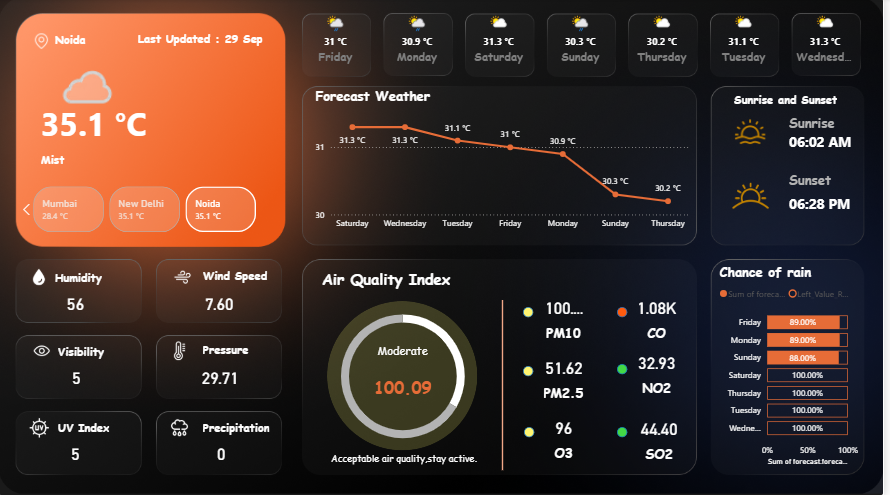

The dashboard page shown, as its layout file describes it:
{"tool":"powerbi","page":{"name":"Page 1","canvas":[1280,720],"ordinal":0},"visuals":[{"type":"shape","box":[475.7,437.6,217.5,216.1],"z":0},{"type":"advancedSlicerVisual","fields":{"Values":["Locations.location.name"]},"box":[26,268,372.1,76.6],"z":1000},{"type":"shape","box":[62.8,142.4,186.8,75],"z":2000},{"type":"shape","box":[62.8,211.3,323.1,45.9],"z":3000},{"type":"shape","box":[82.7,38.3,148.6,45.9],"z":4000},{"type":"shape","box":[202.7,38.6,185.8,39.8],"z":5000},{"type":"image","box":[44.4,45.9,36.8,32.2],"z":6000},{"type":"cardVisual","fields":{"Data":["Min(Current.current.condition.icon)"]},"box":[62.8,62.8,150.1,99.5],"z":7000},{"type":"image","box":[38.3,385.9,42.9,35.2],"z":8000},{"type":"image","box":[240.4,491.6,44.4,36.8],"z":9000},{"type":"image","box":[44.4,491.6,36.8,36.8],"z":10000},{"type":"image","box":[246.6,385.9,38.3,35.2],"z":11000},{"type":"image","box":[242,601.9,42.9,39.8],"z":12000},{"type":"image","box":[35.2,601.9,49,39.8],"z":13000},{"type":"shape","box":[82.7,384.4,88.8,39.8],"z":14000},{"type":"shape","box":[297.1,381.3,101.1,39.8],"z":15000},{"type":"shape","box":[87.3,491.6,101.1,39.8],"z":16000},{"type":"shape","box":[297.1,488.5,101.1,39.8],"z":17000},{"type":"shape","box":[87.3,601.9,101.1,39.8],"z":18000},{"type":"shape","box":[297.1,601.9,101.1,39.8],"z":19000},{"type":"cardVisual","fields":{"Data":["Sum(Current.current.humidity)"]},"box":[44.4,404.3,133.2,62.8],"z":20000},{"type":"cardVisual","fields":{"Data":["Sum(Current.current.wind_kph)"]},"box":[252.7,404.3,133.2,62.8],"z":21000},{"type":"cardVisual","fields":{"Data":["Sum(Current.current.vis_km)"]},"box":[45.9,511.5,133.2,62.8],"z":22000},{"type":"cardVisual","fields":{"Data":["Sum(Current.current.uv)"]},"box":[44.4,621.8,133.2,62.8],"z":23000},{"type":"cardVisual","fields":{"Data":["Sum(Current.current.pressure_in)"]},"box":[254.2,511.5,133.2,62.8],"z":24000},{"type":"cardVisual","fields":{"Data":["Sum(Current.current.precip_mm)"]},"box":[255.8,621.8,133.2,62.8],"z":25000},{"type":"advancedSlicerVisual","fields":{"Values":["Forcast_Day.Day_Name"]},"box":[427.3,15.3,831.6,98],"z":26000},{"type":"lineChart","title":"Forecast Weather","fields":{"Category":["Forcast_Day.Day_Name"],"Y":["Sum(Forcast_Day.forecast.forecastday.day.avgtemp_c)"]},"box":[453.6,127.9,550.1,216],"z":27000},{"type":"shape","box":[1064.7,127.5,173.5,39.4],"z":28000},{"type":"shape","box":[1143.6,178.8,94.6,55.2],"z":29000},{"type":"shape","box":[1143.6,265.5,94.6,60.5],"z":30000},{"type":"shape","box":[1143.6,151.2,94.6,55.2],"z":31000},{"type":"shape","box":[1143.6,234,94.6,55.2],"z":32000},{"type":"image","box":[1038.4,245.8,99.9,80.2],"z":33000},{"type":"image","box":[1055.5,166.9,64.4,53.9],"z":34000},{"type":"hundredPercentStackedBarChart","title":"Chance of rain","fields":{"Category":["Forcast_Day.Day_Name"],"Y":["Sum(Forcast_Day.forecast.forecastday.day.daily_chance_of_rain)","_Measures.Left_Value_Rain"]},"box":[1038.4,381.9,210.7,299],"z":35000},{"type":"shape","box":[468.1,386.1,194.2,39.8],"z":36000},{"type":"cardVisual","fields":{"Data":["Sum(Current.current.air_quality.co)"]},"box":[901.1,420,103.3,88.3],"z":37000},{"type":"cardVisual","fields":{"Data":["Sum(Current.current.air_quality.no2)"]},"box":[901.1,498.8,103.3,88.3],"z":38000},{"type":"cardVisual","fields":{"Data":["Sum(Current.current.air_quality.so2)"]},"box":[901.1,593.9,110.1,88.3],"z":39000},{"type":"cardVisual","fields":{"Data":["Sum(Current.current.air_quality.pm10)"]},"box":[769.3,420,97.9,88.3],"z":40000},{"type":"cardVisual","fields":{"Data":["Sum(Current.current.air_quality.pm2_5)"]},"box":[769.3,505.6,97.9,88.3],"z":41000},{"type":"cardVisual","fields":{"Data":["Sum(Current.current.air_quality.o3)"]},"box":[769.3,592.6,97.9,88.3],"z":42000},{"type":"shape","box":[759.7,447.1,15,15],"z":43000},{"type":"shape","box":[894.3,447.1,15,15],"z":44000},{"type":"shape","box":[759.7,531.4,15,15],"z":45000},{"type":"shape","box":[894.3,528.7,15,15],"z":46000},{"type":"shape","box":[761.1,619.8,15,15],"z":47000},{"type":"shape","box":[894.3,619.8,15,15],"z":48000},{"type":"shape","box":[615.7,436.3,227,246],"z":49000},{"type":"donutChart","fields":{"Y":["Sum(Current.current.air_quality.pm10)","_Measures.Left_Value_pm10"]},"box":[468.9,406.4,233.8,281.3],"z":50000},{"type":"cardVisual","fields":{"Data":["Sum(Current.current.air_quality.pm10)"]},"box":[520.5,498.8,129.1,97.9],"z":51000},{"type":"shape","box":[454.8,627.3,263,74.8],"z":52000}]}

Visuals, with their boxes in screenshot pixels (x1, y1, x2, y2), scaled from the page's 1280x720 canvas onto the 890x495 screenshot:
shape: 331:301:482:449
advancedSlicerVisual - Locations.location.name: 18:184:277:237
shape: 44:98:174:149
shape: 44:145:268:177
shape: 58:26:161:58
shape: 141:27:270:54
image: 31:32:56:54
cardVisual - Min(Current.current.condition.icon): 44:43:148:112
image: 27:265:56:290
image: 167:338:198:363
image: 31:338:56:363
image: 171:265:198:290
image: 168:414:198:441
image: 24:414:59:441
shape: 58:264:119:292
shape: 207:262:277:290
shape: 61:338:131:365
shape: 207:336:277:363
shape: 61:414:131:441
shape: 207:414:277:441
cardVisual - Sum(Current.current.humidity): 31:278:123:321
cardVisual - Sum(Current.current.wind_kph): 176:278:268:321
cardVisual - Sum(Current.current.vis_km): 32:352:125:395
cardVisual - Sum(Current.current.uv): 31:427:123:471
cardVisual - Sum(Current.current.pressure_in): 177:352:269:395
cardVisual - Sum(Current.current.precip_mm): 178:427:270:471
advancedSlicerVisual - Forcast_Day.Day_Name: 297:11:875:78
"Forecast Weather" lineChart: 315:88:698:236
shape: 740:88:861:115
shape: 795:123:861:161
shape: 795:183:861:224
shape: 795:104:861:142
shape: 795:161:861:199
image: 722:169:791:224
image: 734:115:779:152
"Chance of rain" hundredPercentStackedBarChart: 722:263:869:468
shape: 325:265:461:293
cardVisual - Sum(Current.current.air_quality.co): 627:289:698:349
cardVisual - Sum(Current.current.air_quality.no2): 627:343:698:404
cardVisual - Sum(Current.current.air_quality.so2): 627:408:703:469
cardVisual - Sum(Current.current.air_quality.pm10): 535:289:603:349
cardVisual - Sum(Current.current.air_quality.pm2_5): 535:348:603:408
cardVisual - Sum(Current.current.air_quality.o3): 535:407:603:468
shape: 528:307:539:318
shape: 622:307:632:318
shape: 528:365:539:376
shape: 622:363:632:374
shape: 529:426:540:436
shape: 622:426:632:436
shape: 428:300:586:469
donutChart - Sum(Current.current.air_quality.pm10) x _Measures.Left_Value_pm10: 326:279:489:473
cardVisual - Sum(Current.current.air_quality.pm10): 362:343:452:410
shape: 316:431:499:483
